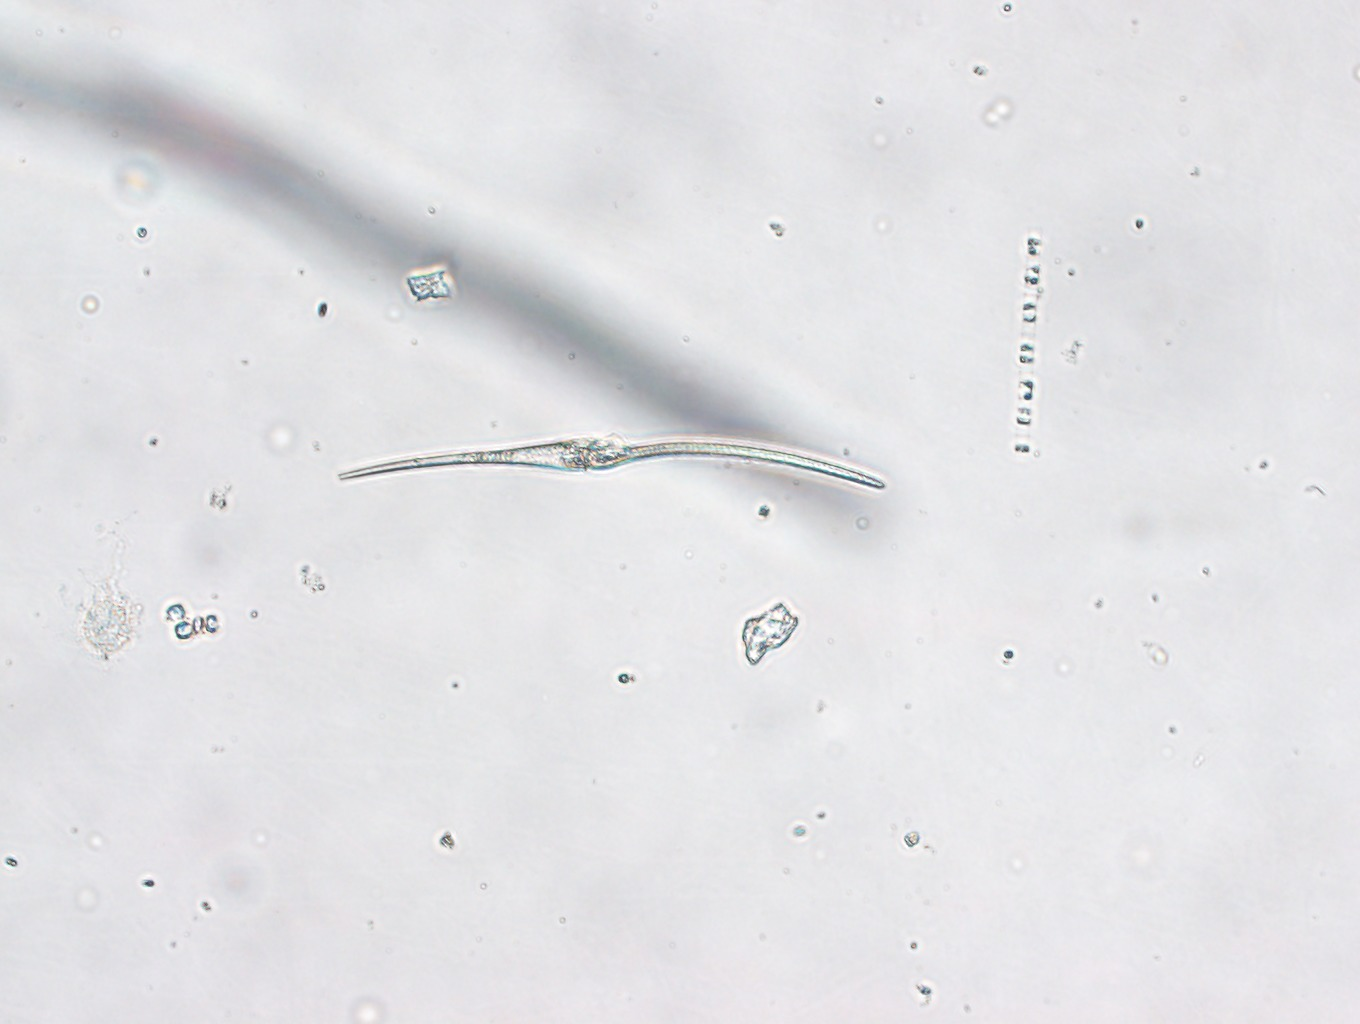ceratium fusus: (337, 432, 885, 493)
skeletonema: (1013, 233, 1040, 459)
